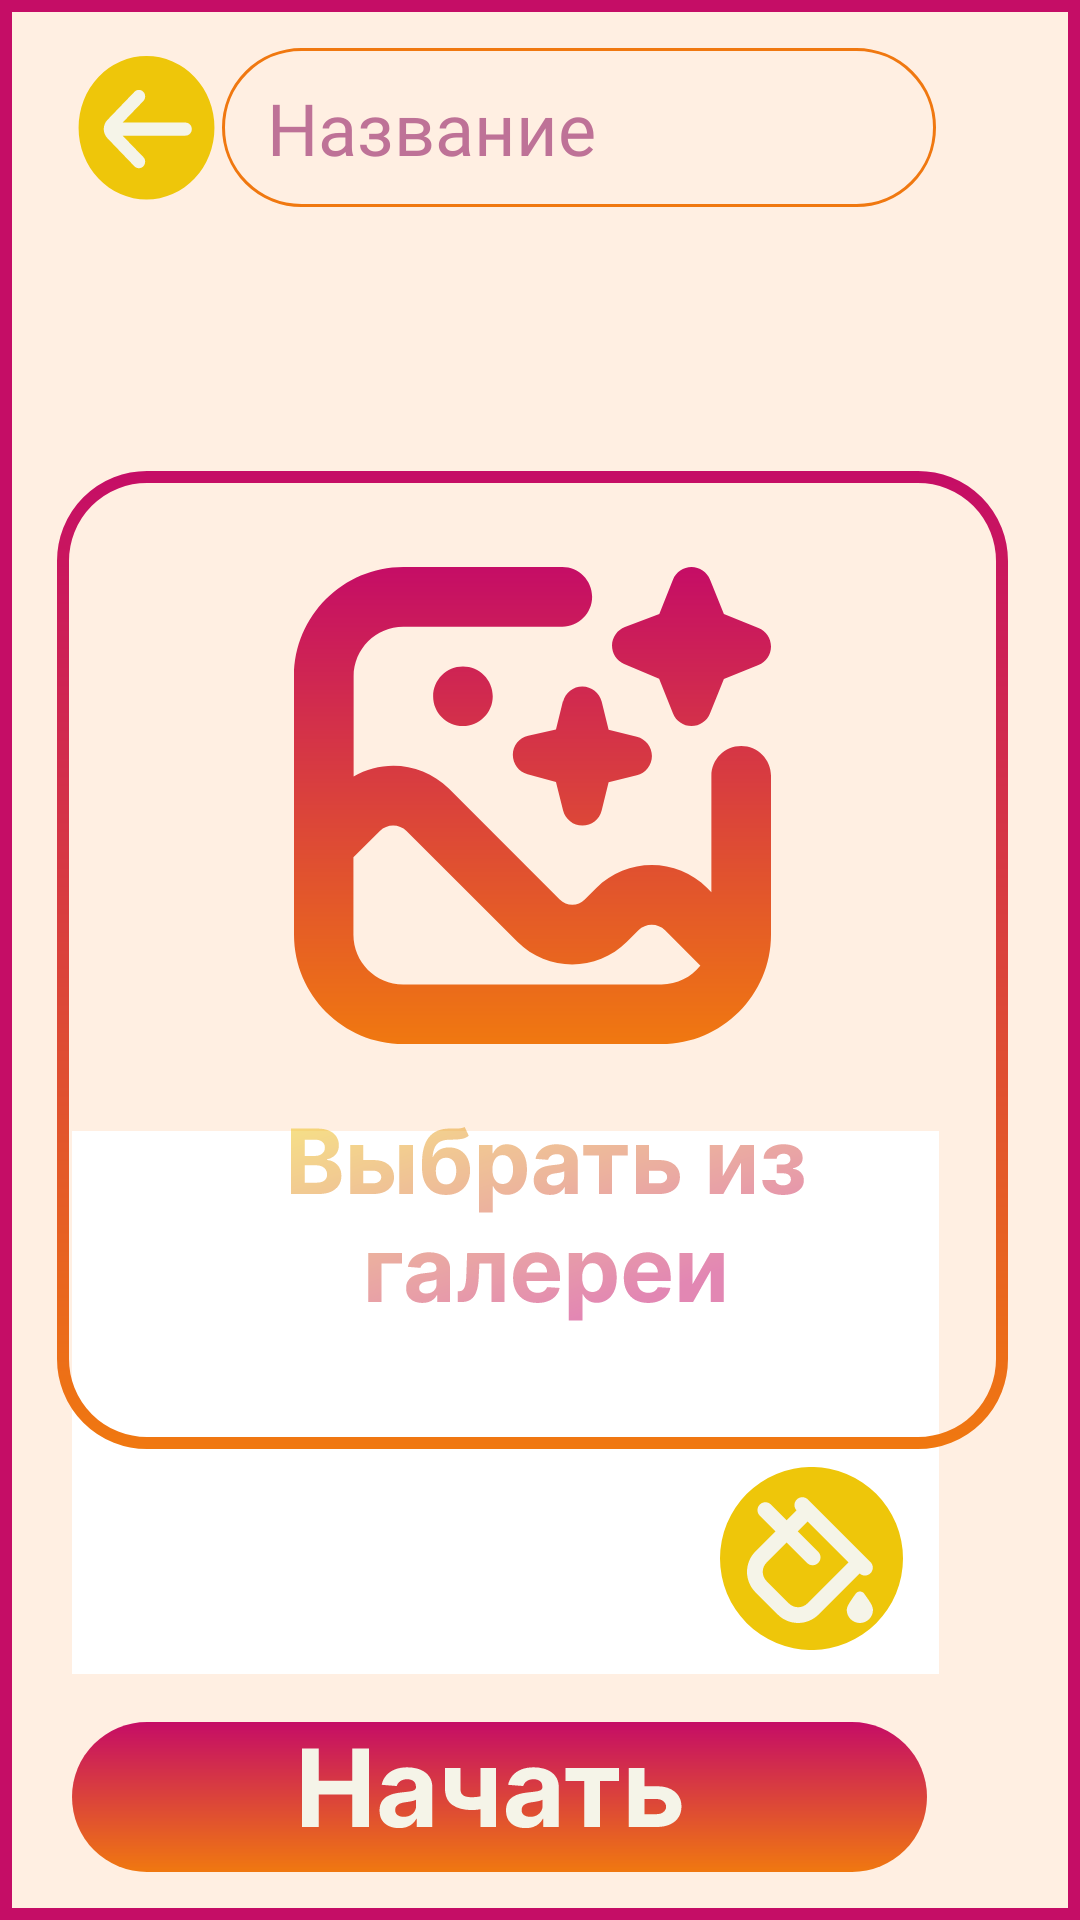

Icons on this 1080 × 1920 Android screen, each with the point to tap as (x,y):
backbutton: (146,128)
choosebgbutton: (811,1558)
